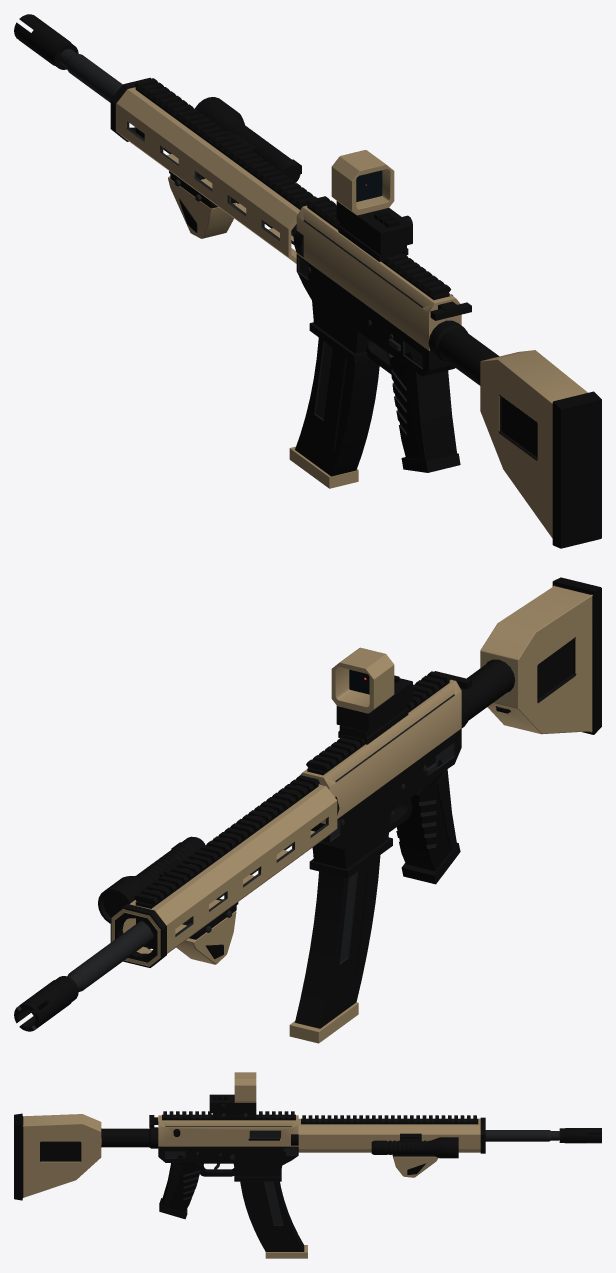
The picture shows the model from 3 angles, top to bottom: view 1: azimuth 30°, elevation 25°; view 2: azimuth 150°, elevation 25°; view 3: azimuth 270°, elevation 25°; orthographic projection. The views are drawn at different scales.
Visible parts, largest first — view 1: stock, handguard, upper, magazine, receiver, optic, grip, light, foregrip, muzzle, barrel; view 2: stock, handguard, magazine, upper, receiver, optic, grip, light, barrel, muzzle, foregrip; view 3: stock, handguard, upper, receiver, magazine, optic, grip, light, barrel, foregrip, muzzle, trigger_guard.
Boxes of the visible parts, x1,y1,x2,y2 form: stock: (428,320,601,548); handguard: (110,77,316,263); upper: (296,196,471,350); magazine: (289,337,379,488); receiver: (296,254,454,376); optic: (331,150,412,261); grip: (389,352,460,472); light: (194,97,301,182); foregrip: (168,171,236,238); muzzle: (14,14,78,69); barrel: (59,49,296,239); stock: (460,577,601,734); handguard: (110,775,339,967); magazine: (289,855,380,1043); upper: (300,671,471,824); receiver: (309,728,461,878); optic: (331,647,412,744); grip: (396,759,460,884); light: (98,836,205,923); barrel: (67,823,319,991); muzzle: (14,976,78,1031); foregrip: (176,898,238,964); stock: (14,1113,158,1200); handguard: (291,1115,485,1153); upper: (149,1111,298,1146); receiver: (158,1146,298,1181); magazine: (240,1181,307,1258); optic: (209,1072,256,1119); grip: (159,1155,201,1219); light: (371,1133,458,1158); barrel: (485,1130,559,1141); foregrip: (392,1154,438,1177); muzzle: (559,1128,601,1143); trigger_guard: (200,1163,235,1176).
Size of the model in its own units: 0.0885 by 0.3176 by 0.9428.
